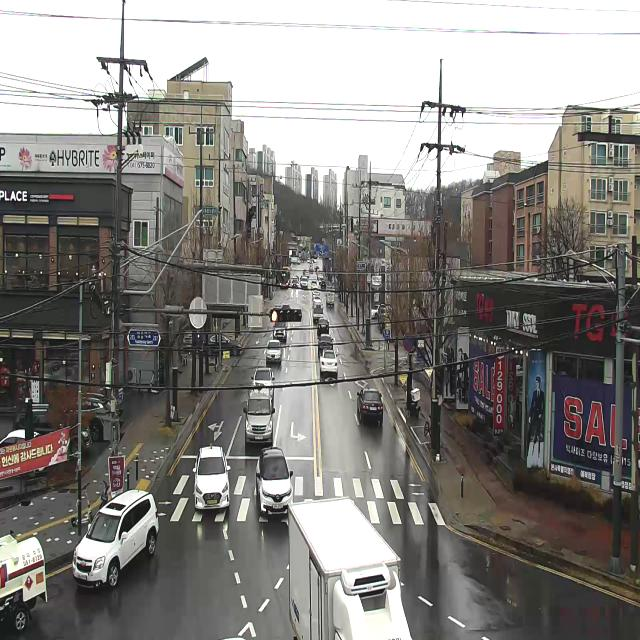Bus: (280, 266, 290, 288)
Car: (72, 490, 159, 590), (12, 412, 92, 460), (256, 446, 293, 516), (192, 443, 230, 510), (0, 429, 45, 478), (74, 392, 110, 442), (243, 393, 275, 446), (357, 387, 383, 425), (251, 367, 275, 399), (208, 334, 242, 356), (319, 349, 338, 375), (251, 389, 272, 410), (266, 340, 282, 364), (317, 334, 333, 357), (273, 321, 287, 340), (317, 318, 330, 336), (372, 304, 386, 319), (313, 303, 324, 321), (183, 331, 192, 347), (313, 296, 322, 308), (312, 290, 320, 300), (302, 276, 308, 288), (291, 280, 298, 288), (311, 280, 317, 289), (281, 304, 291, 309), (321, 280, 326, 289), (319, 277, 324, 285), (317, 272, 323, 278), (292, 277, 298, 283), (305, 271, 310, 278), (314, 264, 320, 269), (307, 258, 311, 264), (303, 269, 307, 275), (296, 275, 299, 282), (300, 276, 304, 280)
Truck: (290, 496, 414, 640), (0, 533, 49, 640), (326, 289, 336, 307), (291, 257, 301, 264)
